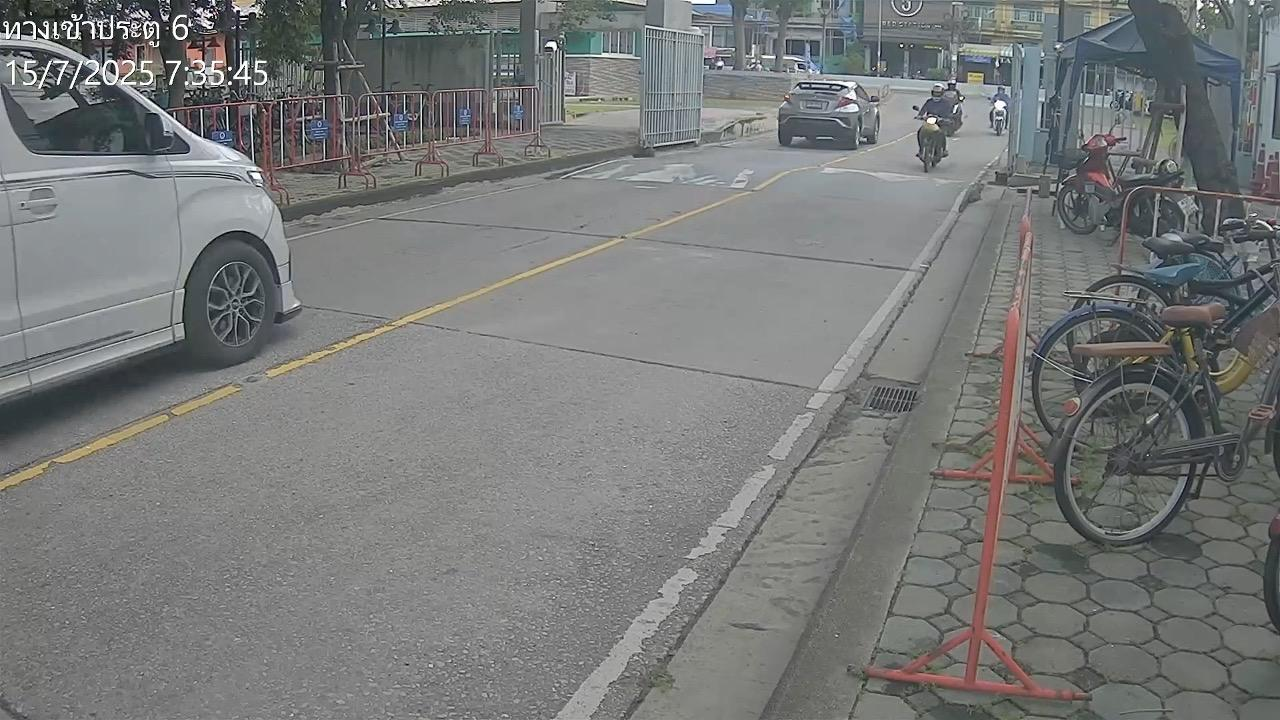With-Helmet: (932, 84, 944, 101)
